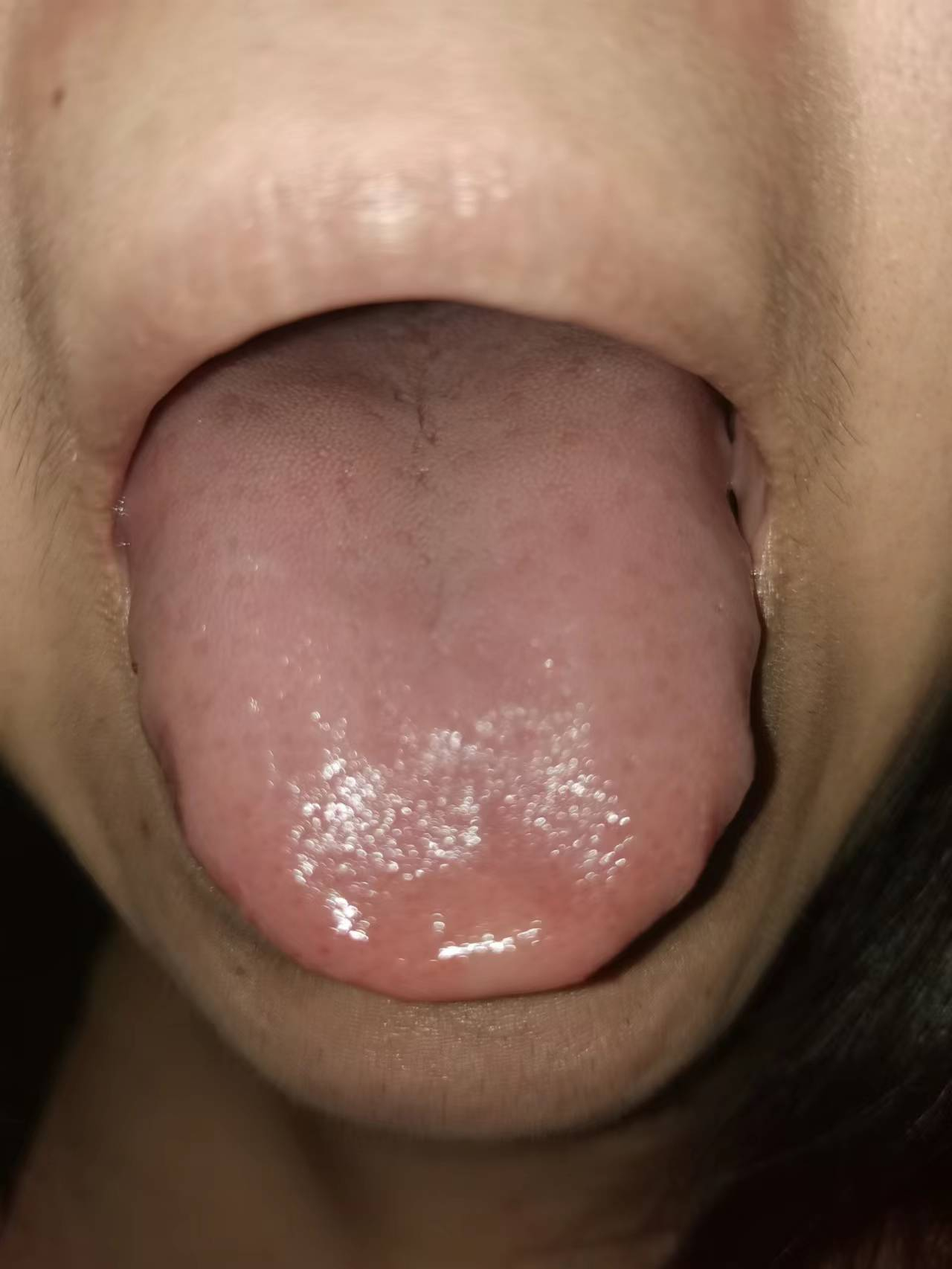baitaishe: (126, 299, 762, 1003)
chihenshe: (700, 612, 762, 870)
liewenshe: (385, 342, 443, 452)
